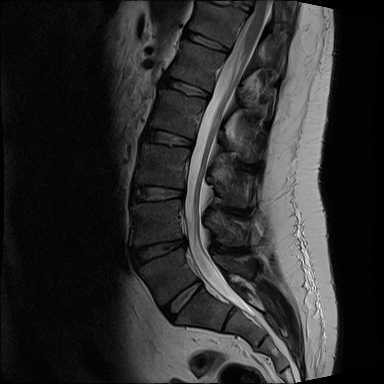Lumbar Disc Bulge (LDB): (124, 226, 195, 272)
Normal IVD: (159, 63, 218, 107), (156, 275, 205, 327), (174, 24, 231, 60), (138, 119, 198, 153), (120, 181, 188, 207)
Spinal Stenosis (SS): (170, 225, 196, 259)
